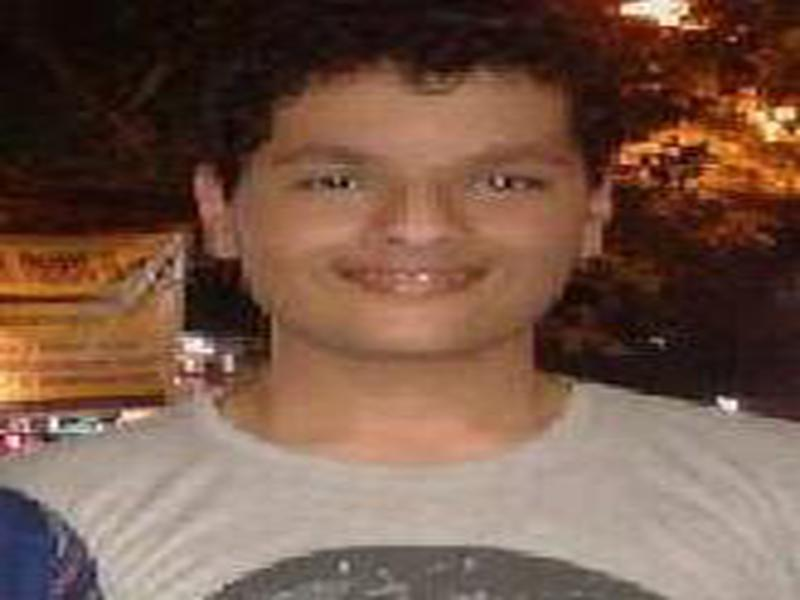without_mask: (238, 78, 583, 357)
